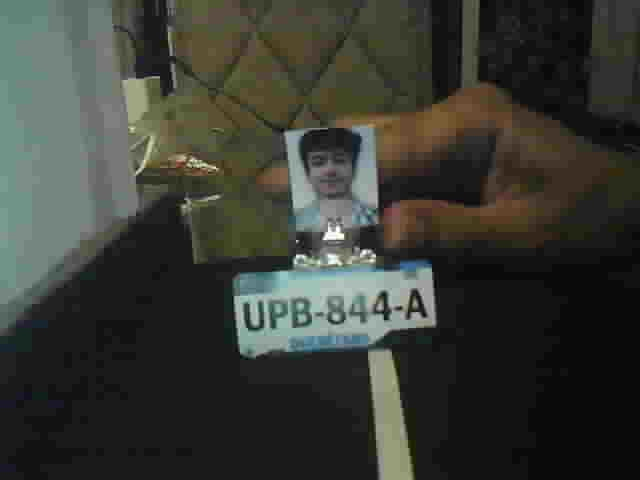PLACA: (227, 258, 440, 362)
ROSTRO: (294, 130, 378, 226)
